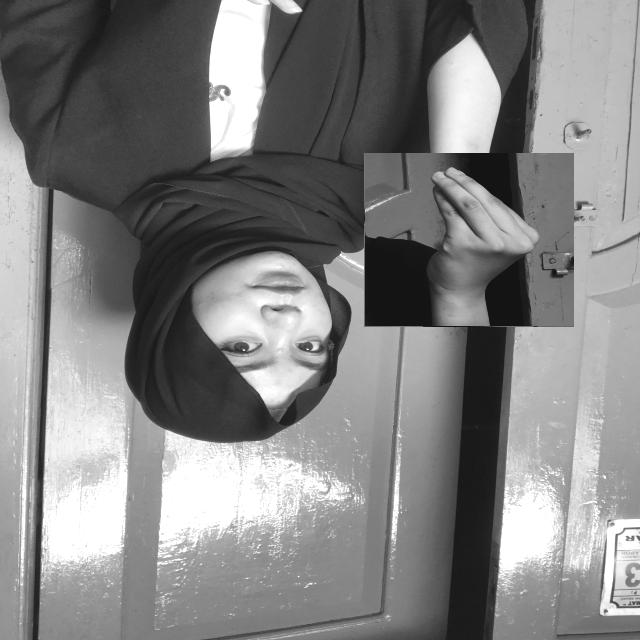kapan: (364, 153, 574, 327)
